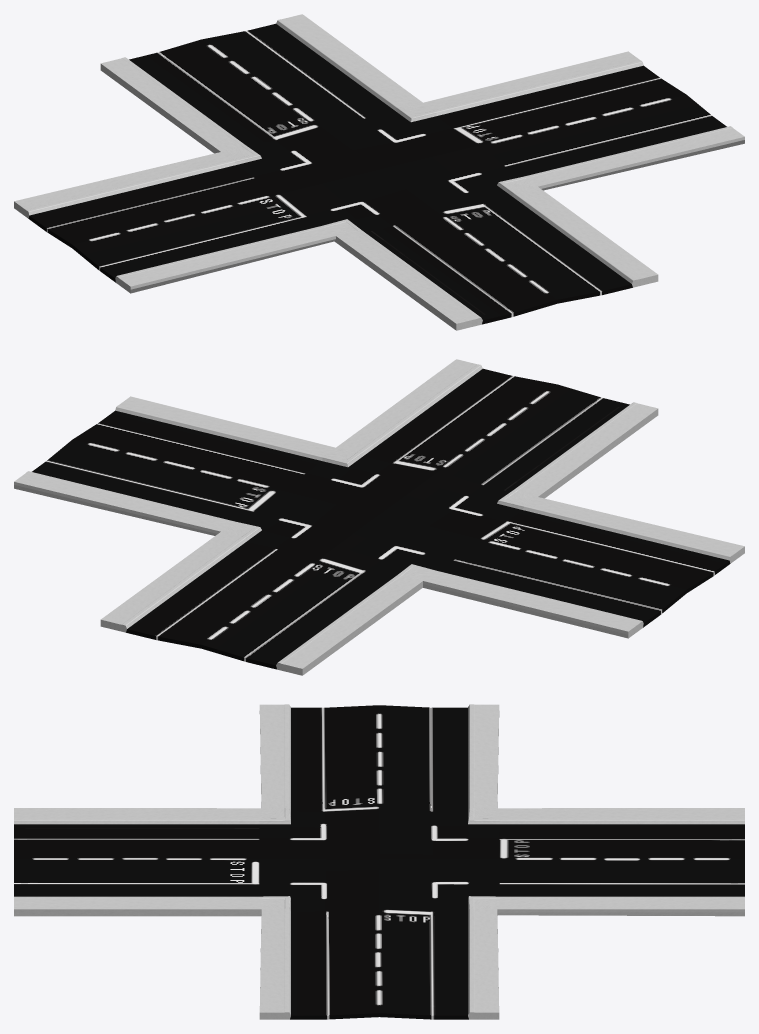
Rendered from Road_Intersection.fbx.
3 views of the same model, one above another, from view 1: azimuth 30°, elevation 25°; view 2: azimuth 150°, elevation 25°; view 3: azimuth 270°, elevation 25° (orthographic). The views are drawn at different scales.
Visible parts, largest first — view 1: pCube4; view 2: pCube4; view 3: pCube4.
Part boxes in pixels (x1,y1,x2,y2): pCube4: [14, 14, 744, 330]; pCube4: [14, 359, 744, 675]; pCube4: [14, 704, 744, 1019].
Size of the model in its own units: 13299 by 157 by 13341.
1 material, 1 textured.
